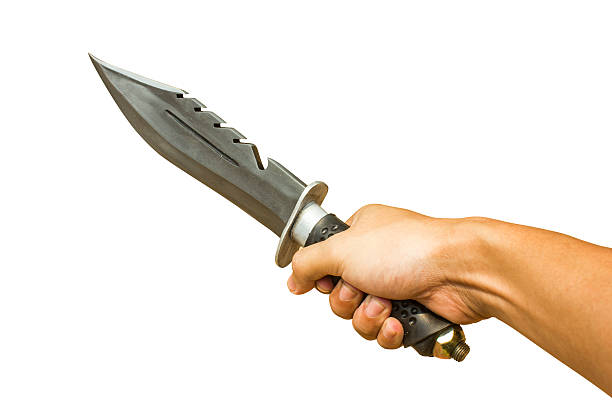knife: (85, 50, 471, 364)
